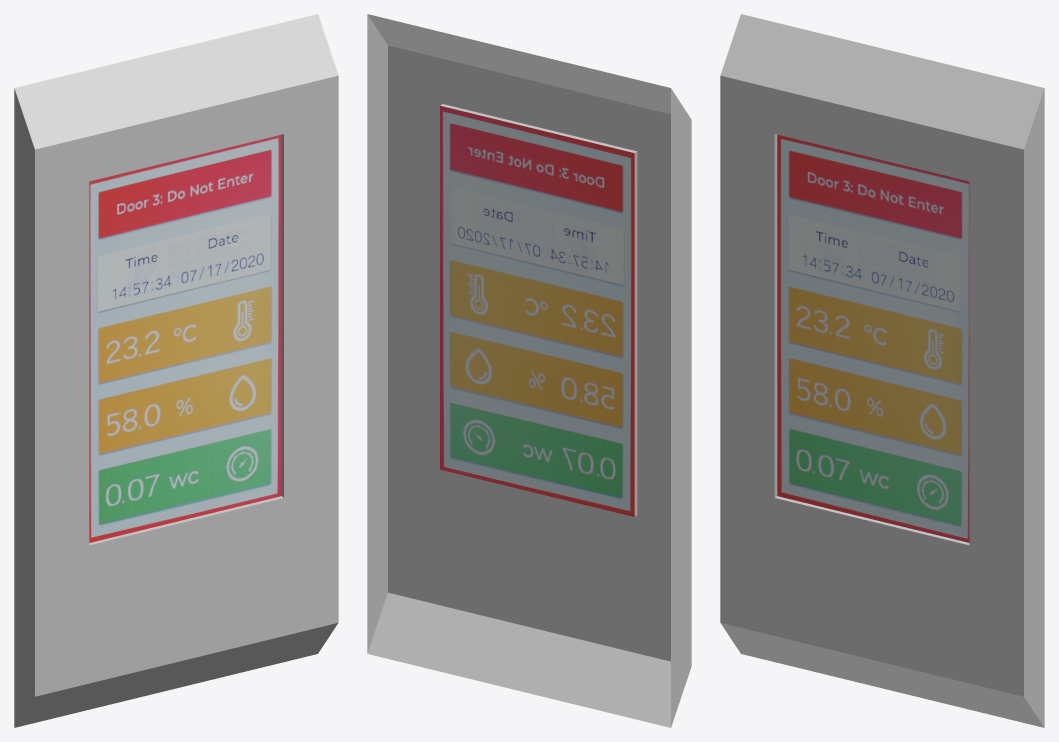
Rendered from smart critical display.fbx.
3 views of the same model, side by side, from view 1: azimuth 30°, elevation 25°; view 2: azimuth 150°, elevation 25°; view 3: azimuth 330°, elevation 25° (orthographic).
Parts seen in each view (by area): view 1: critical display; view 2: critical display; view 3: critical display.
Part boxes in pixels (x1,y1,x2,y2): critical display: (14, 14, 338, 727); critical display: (367, 14, 691, 727); critical display: (720, 14, 1044, 727).
Bounding box in the file's own units: 13.56 × 27.31 × 1.59.
